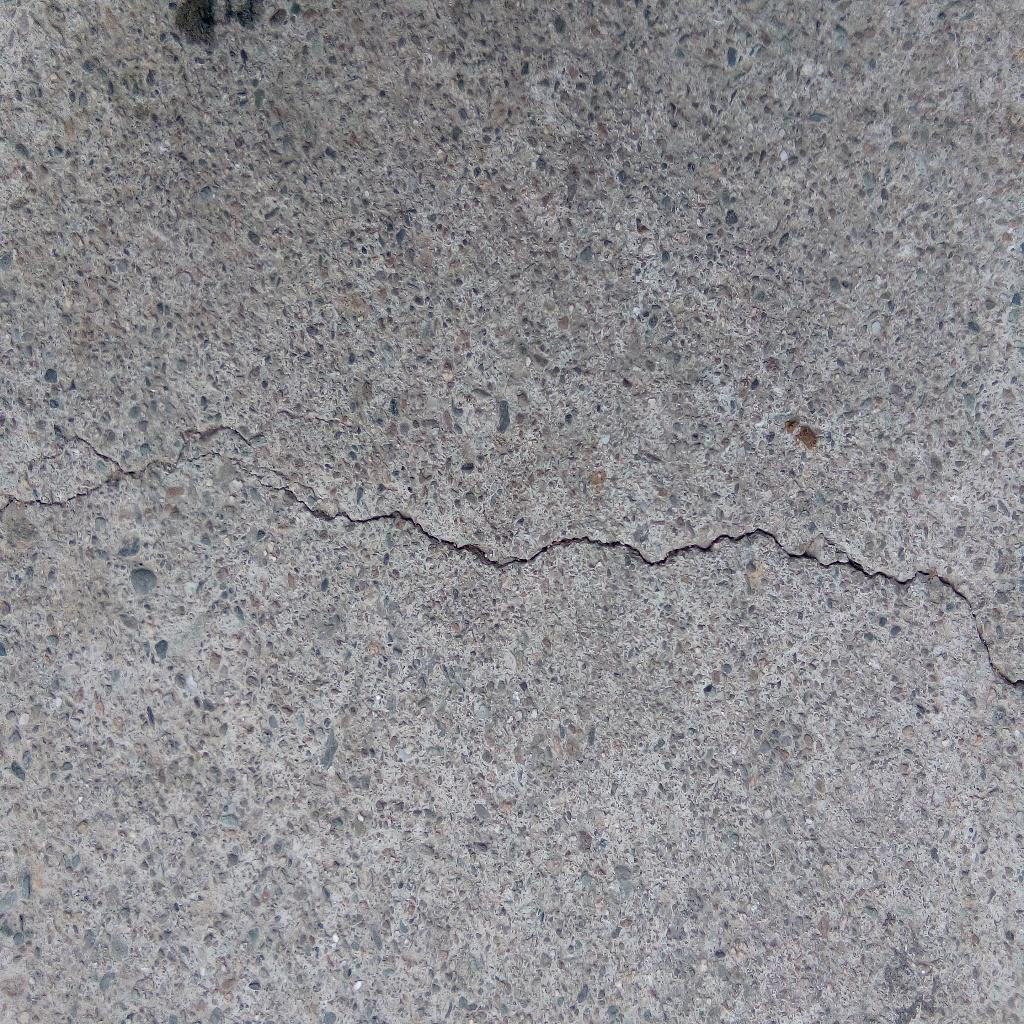Crack: (1, 424, 1024, 690)
